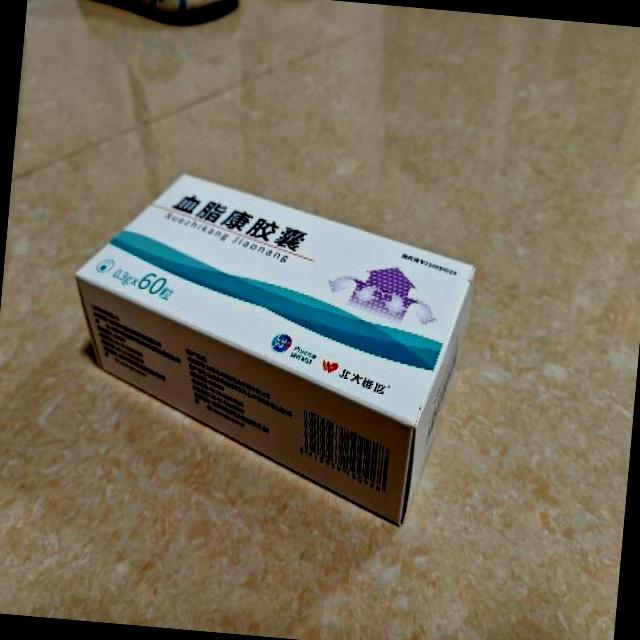box: (54, 162, 482, 530)
